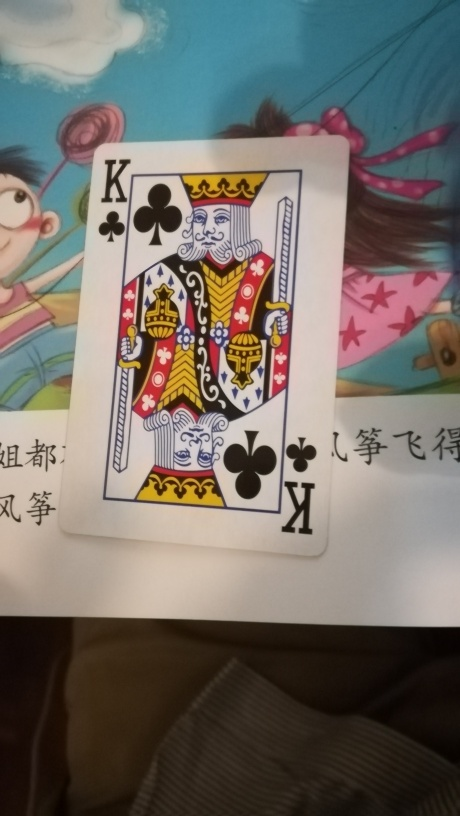mh k: (51, 133, 349, 557)
